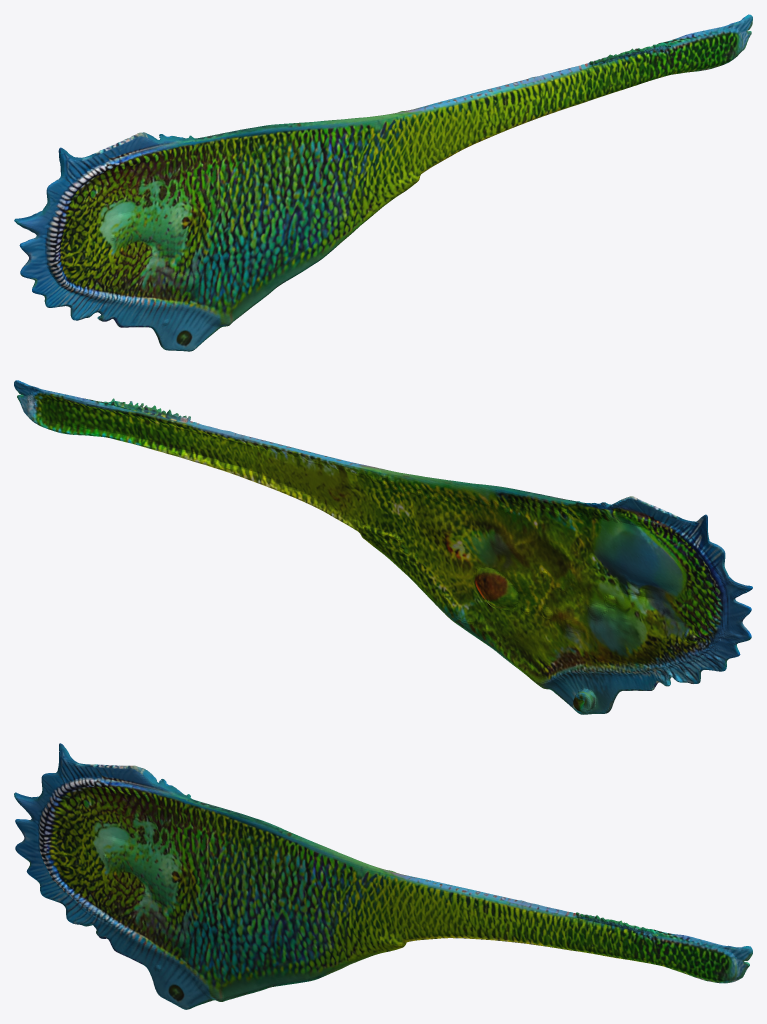
Rendered from Stentor3D.glb.
3 renders of one model, top to bottom at view 1: azimuth 30°, elevation 25°; view 2: azimuth 150°, elevation 25°; view 3: azimuth 330°, elevation 25°, orthographic.
Visible parts, largest first — view 1: tripo_node_3b4dc9b4-23fe-4f8d-9ecb-ba2be3bb1532; view 2: tripo_node_3b4dc9b4-23fe-4f8d-9ecb-ba2be3bb1532; view 3: tripo_node_3b4dc9b4-23fe-4f8d-9ecb-ba2be3bb1532.
Part boxes in pixels (x1,y1,x2,y2): tripo_node_3b4dc9b4-23fe-4f8d-9ecb-ba2be3bb1532: (14,14,752,351); tripo_node_3b4dc9b4-23fe-4f8d-9ecb-ba2be3bb1532: (14,380,752,714); tripo_node_3b4dc9b4-23fe-4f8d-9ecb-ba2be3bb1532: (14,743,752,1009).
Size of the model in its own units: 1 by 0.3009 by 0.033.
1 material, 1 textured.
